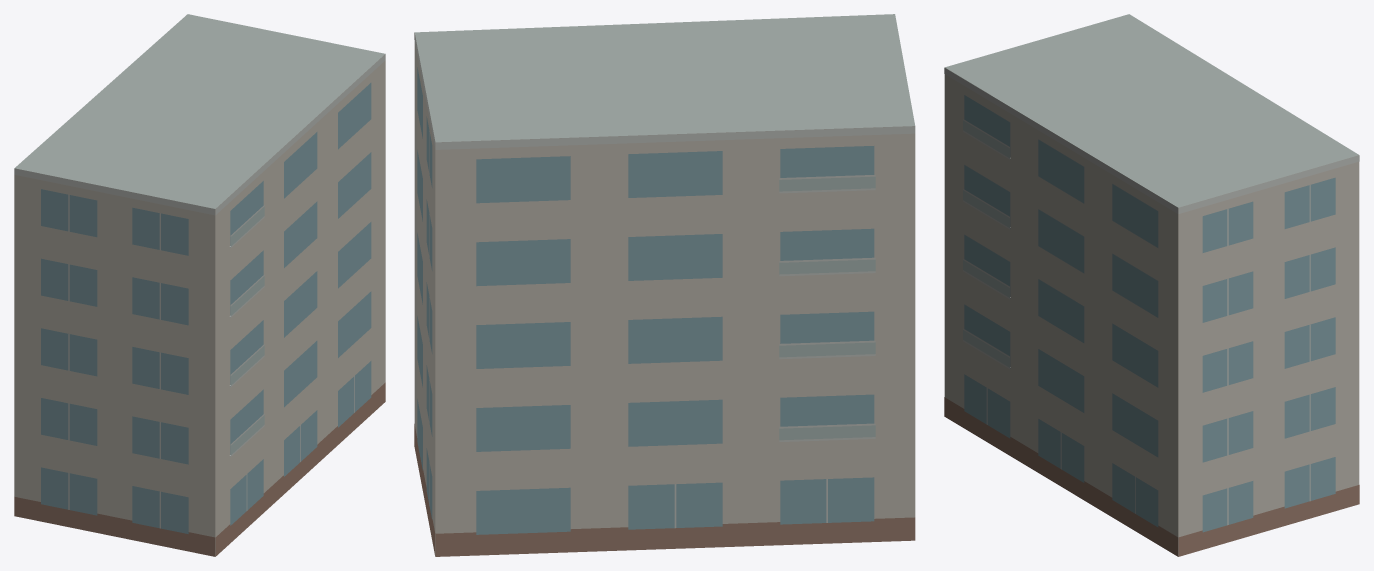
File: survey-upis-32883375.glb
3 views of the same model, side by side, from view 1: azimuth 30°, elevation 25°; view 2: azimuth 150°, elevation 25°; view 3: azimuth 270°, elevation 25° (orthographic). The views are drawn at different scales.
Parts seen in each view (by area): view 1: survey-upis-32883375.tmp; view 2: survey-upis-32883375.tmp; view 3: survey-upis-32883375.tmp.
Part boxes in pixels (<box>): survey-upis-32883375.tmp: <box>14,14,385,556</box>; survey-upis-32883375.tmp: <box>414,14,915,556</box>; survey-upis-32883375.tmp: <box>944,14,1359,556</box>.
Size of the model in its own units: 15.72 by 13.2 by 14.23.
